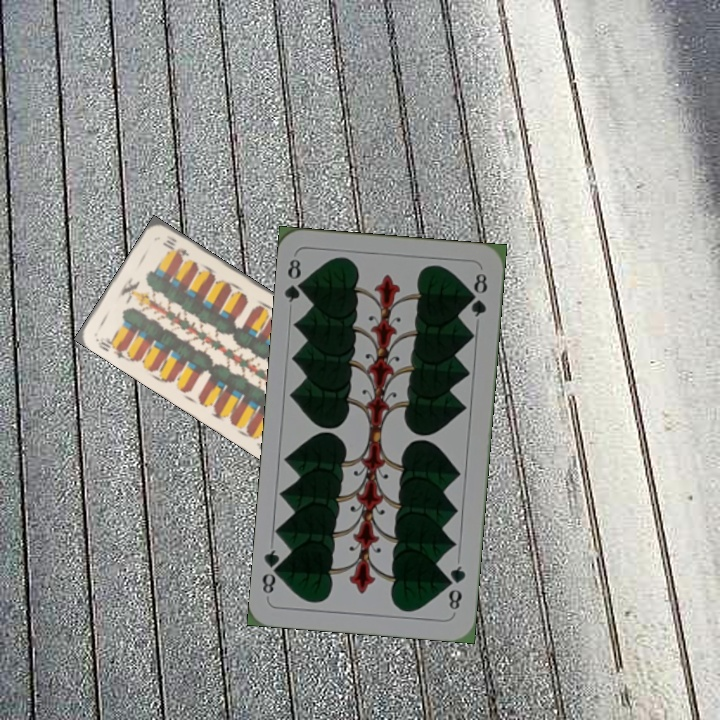E10: (91, 333, 129, 361)
G8: (280, 255, 309, 305), (443, 562, 468, 613)
